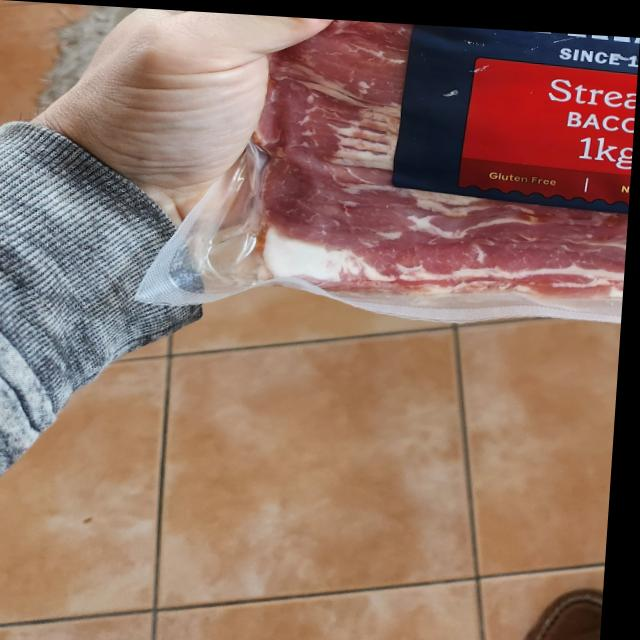bacon: (113, 6, 640, 354)
